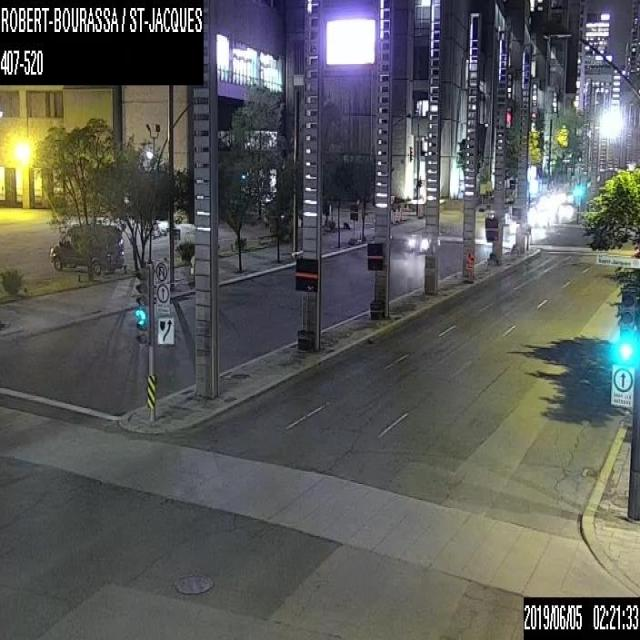construction: (464, 253, 474, 284)
vehicle: (49, 224, 123, 275), (404, 230, 440, 253)
